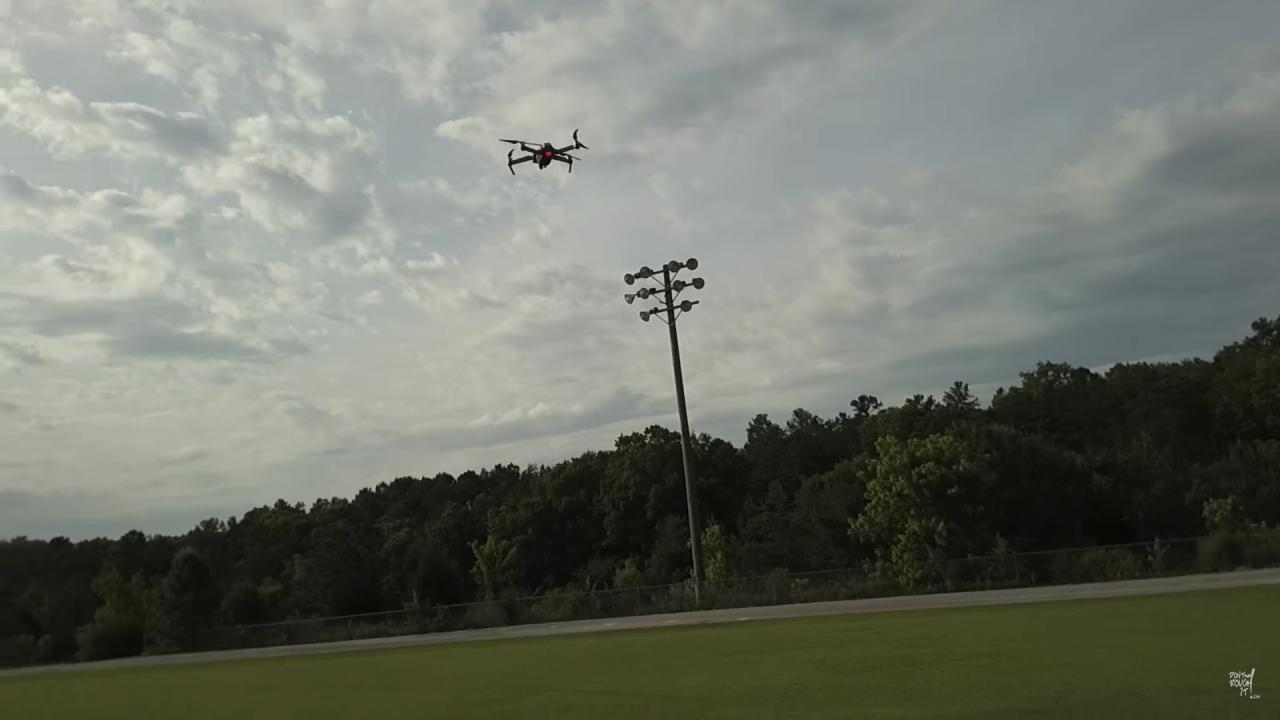Drone: (490, 118, 598, 188)
